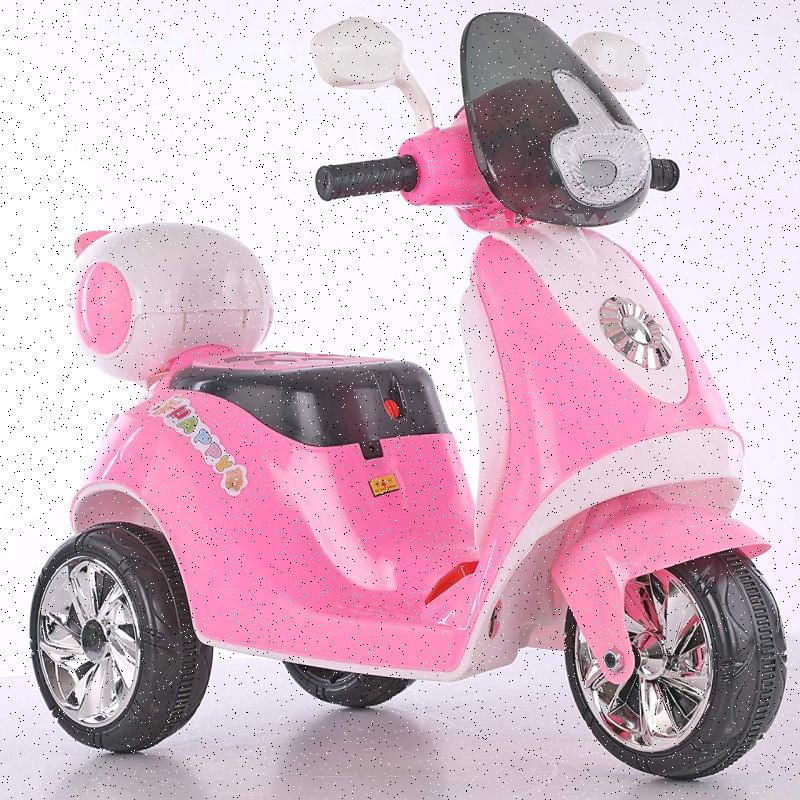bike: (5, 9, 786, 781)
